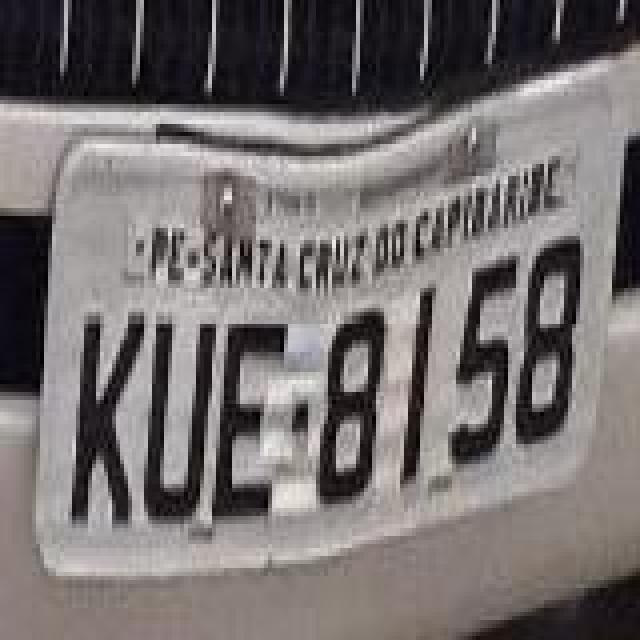1: (396, 282, 436, 486)
5: (448, 252, 520, 468)
8: (518, 232, 586, 448), (316, 310, 388, 506)
E: (208, 312, 288, 520)
K: (68, 304, 148, 528)
U: (144, 316, 216, 532)
